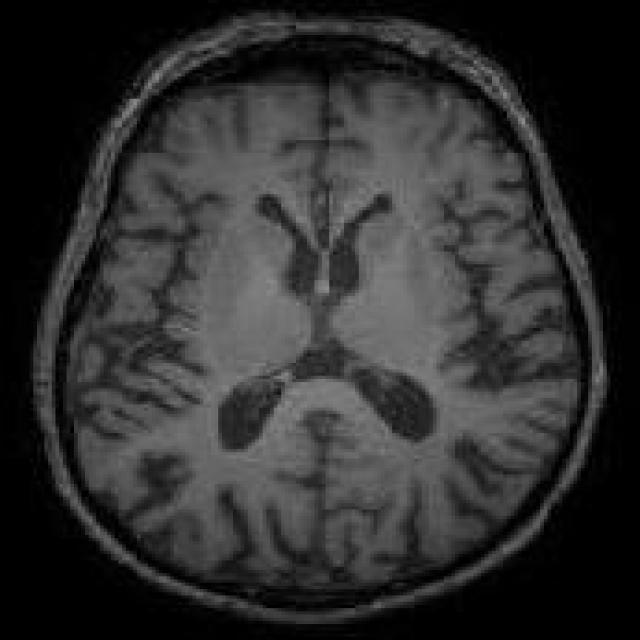notumor: (37, 13, 603, 621)
